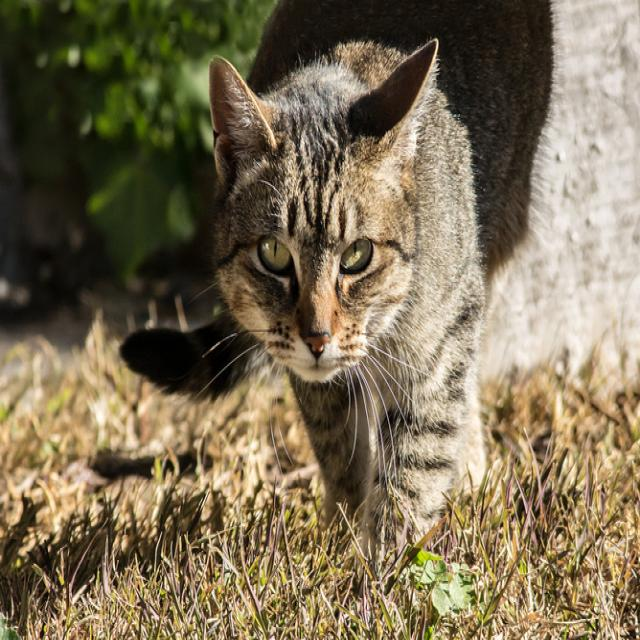cat: (121, 2, 552, 545)
